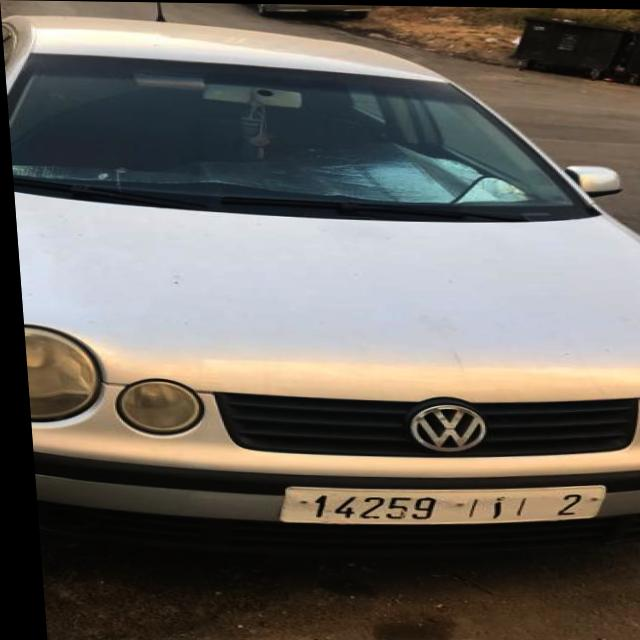License-Plate: (272, 483, 599, 524)
